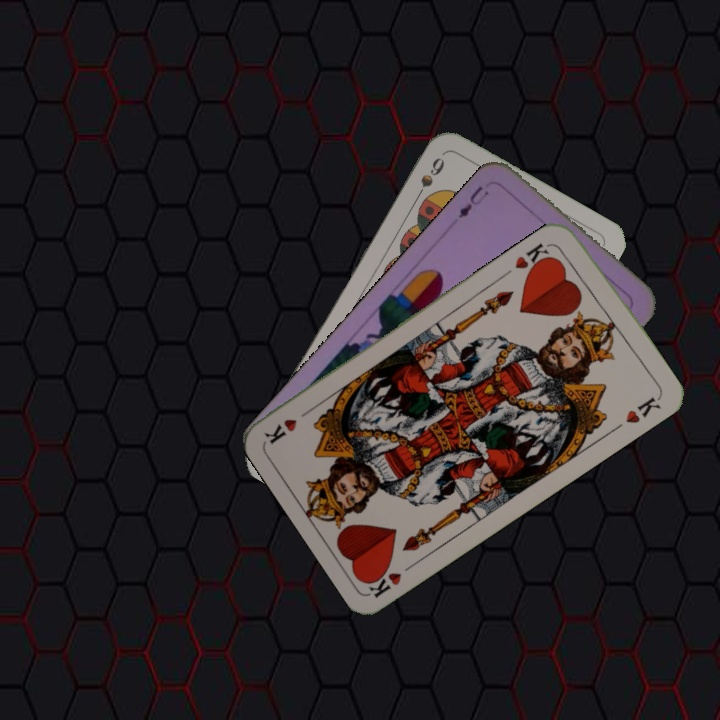EU: (454, 181, 492, 221)
HK: (363, 557, 420, 601), (510, 238, 556, 278)
S9: (409, 153, 448, 206)
